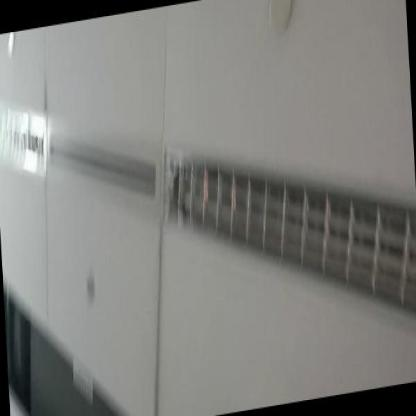light_off: (159, 97, 415, 369)
